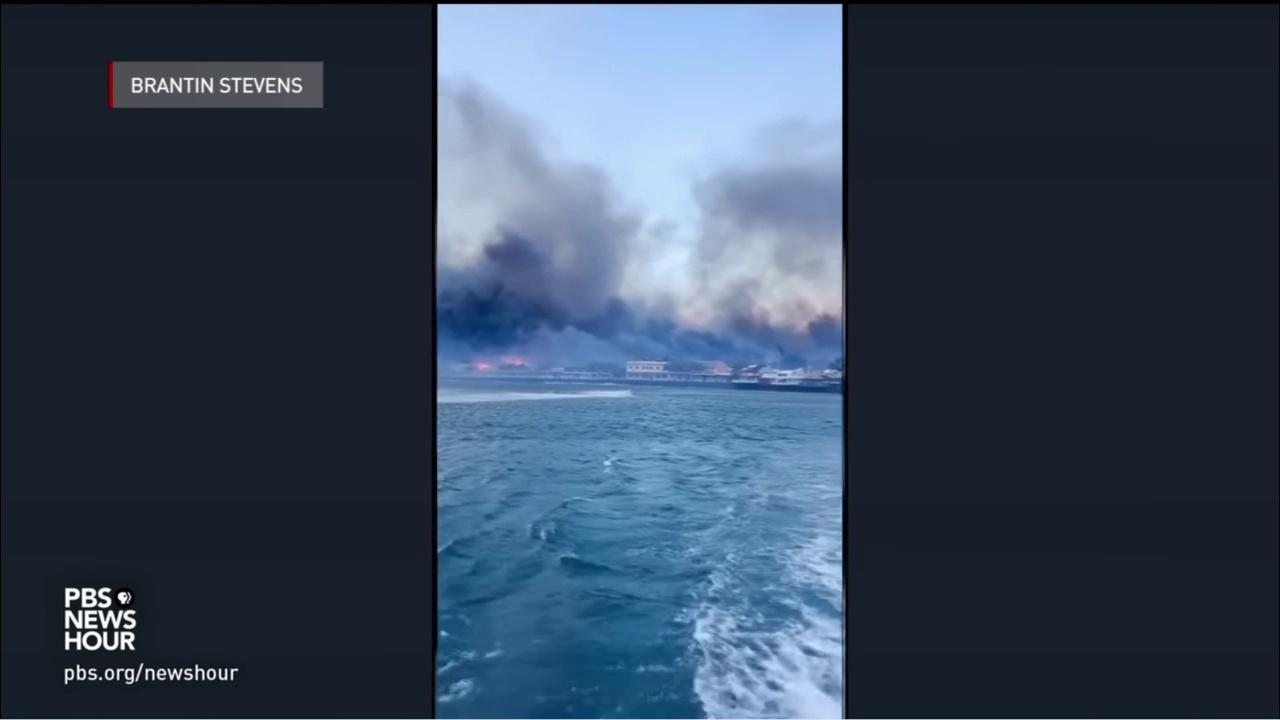fire: (502, 356, 527, 365), (473, 360, 492, 371)
smoke: (437, 70, 842, 371)
